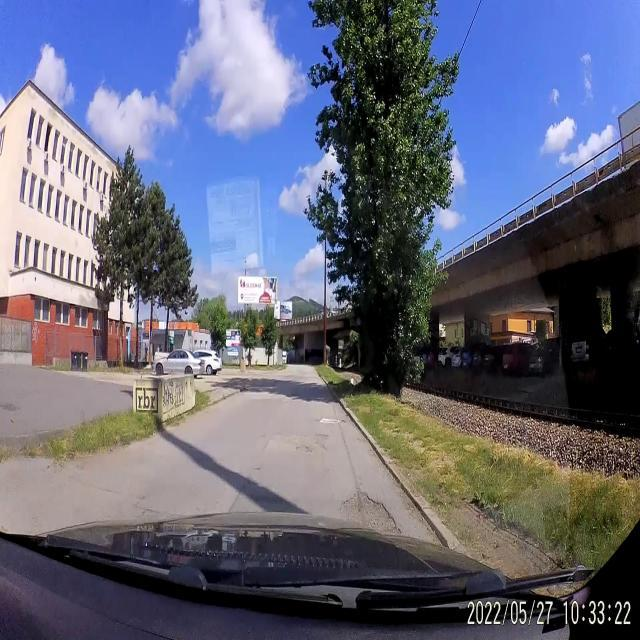Pothole: (338, 487, 402, 532)
